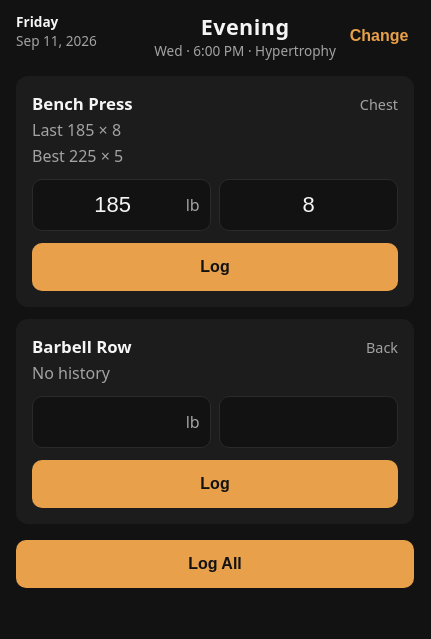
Test: WorkoutPage › stops Log All when one exercise fails
Click the button "Log All" at (215, 564), box [16,540,414,588]
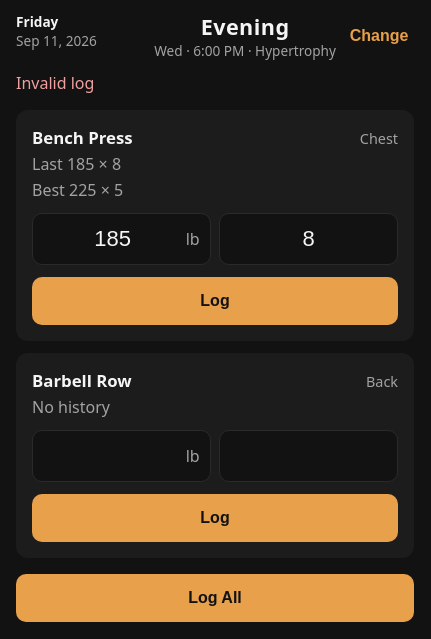
Expected: the text with test id "workout-error" reads "Invalid log", [16,72,94,94]
